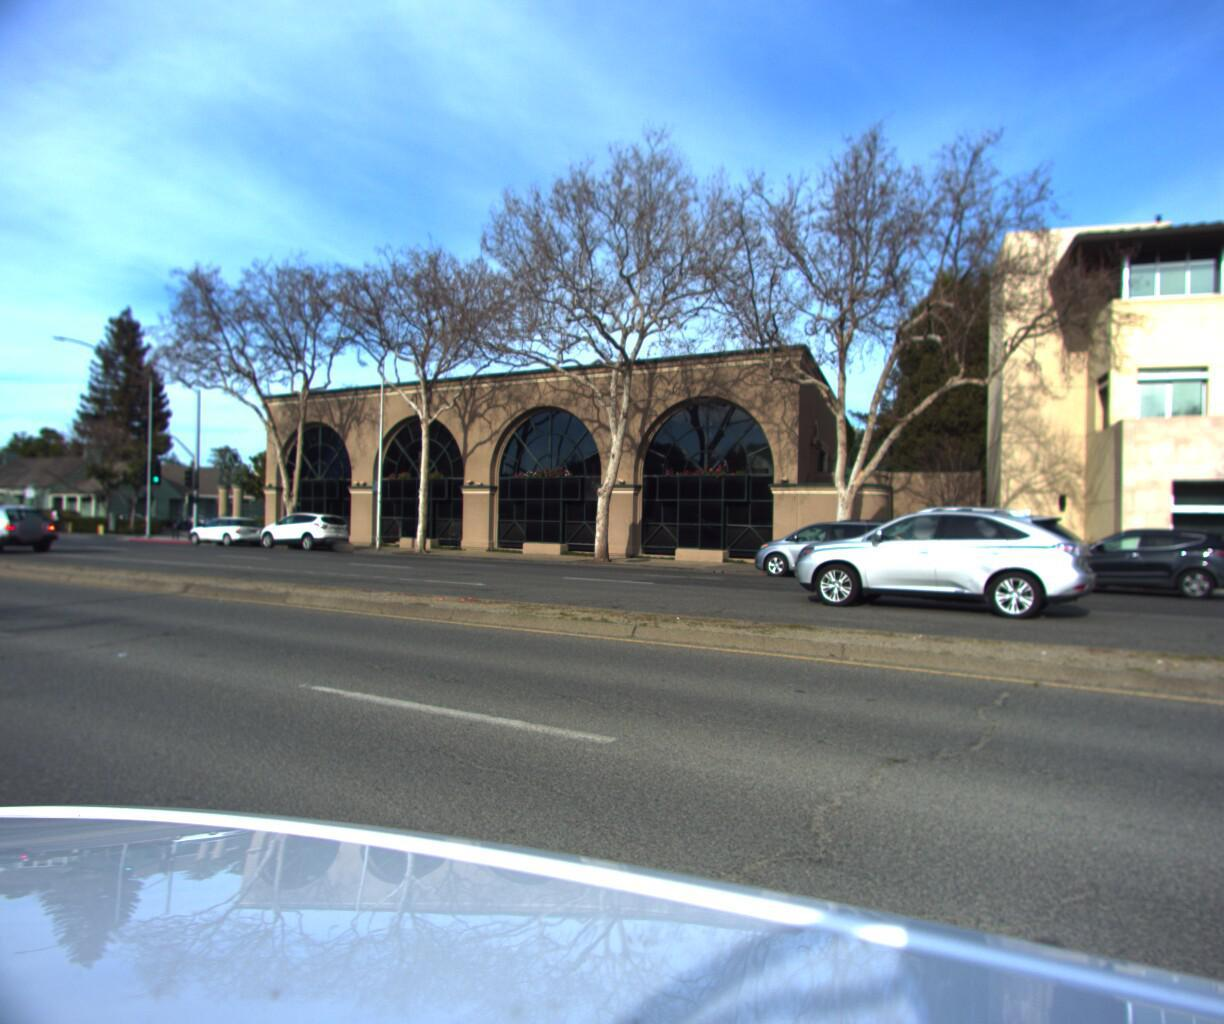car: (781, 504, 1104, 620), (1015, 523, 1224, 606), (735, 519, 934, 589), (249, 513, 352, 557), (180, 518, 267, 555)
